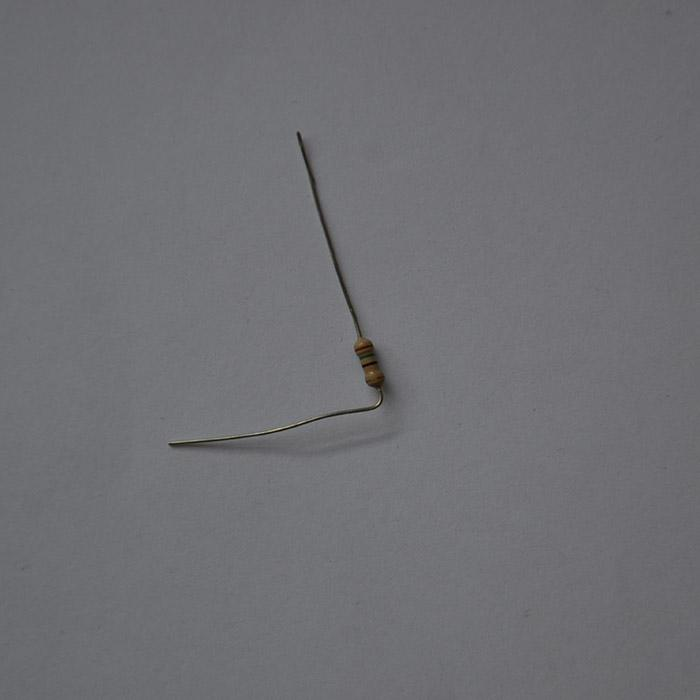resistor: (352, 334, 382, 386)
